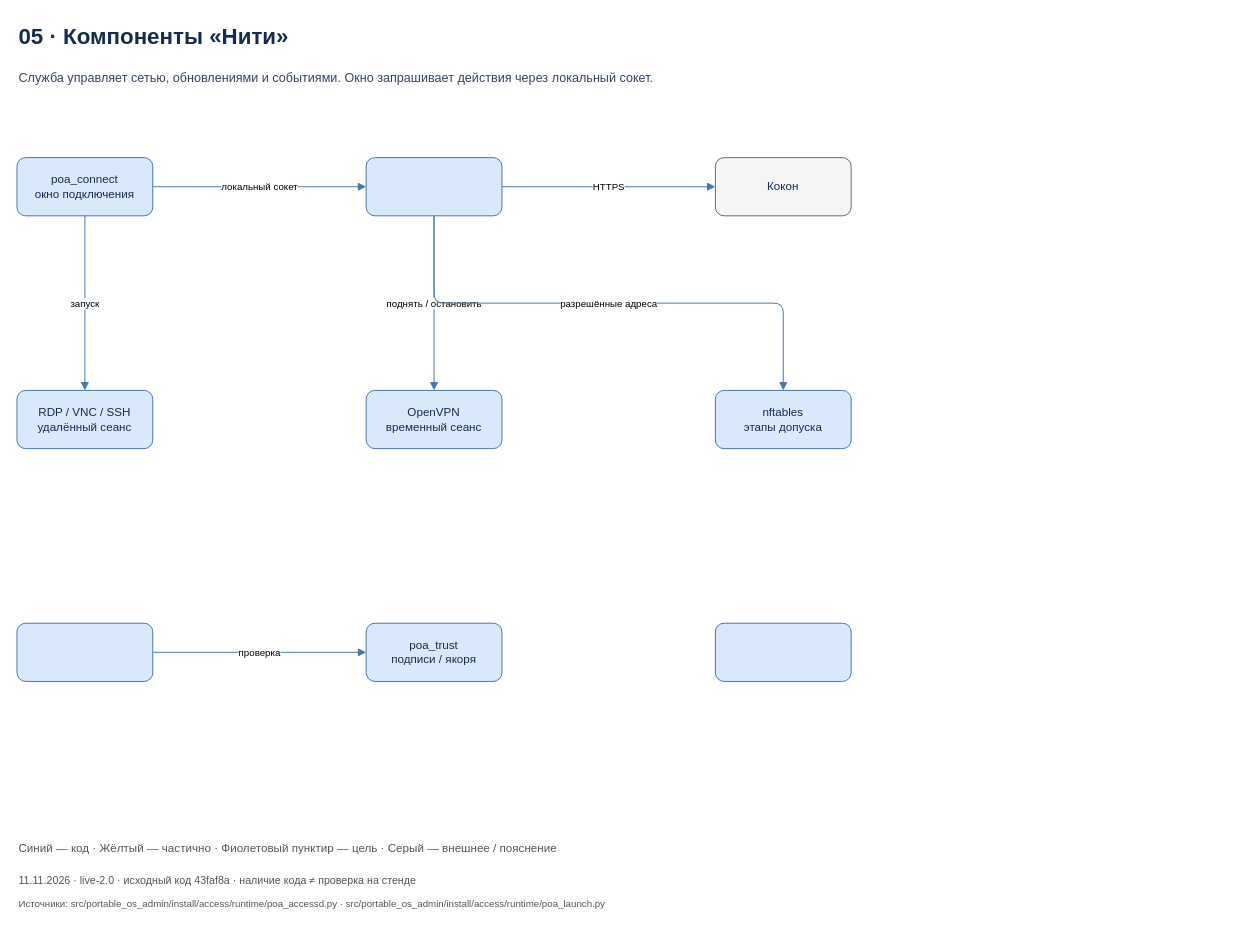
Image size: 1237x945. Some labels were removed from this diagram. The centre of each missing label's shape, as x and y in pixels:
poa_accessd служба root: point (433, 186)
poa_events очередь событий: point (782, 651)
poa_update обновление A/B: point (84, 651)
